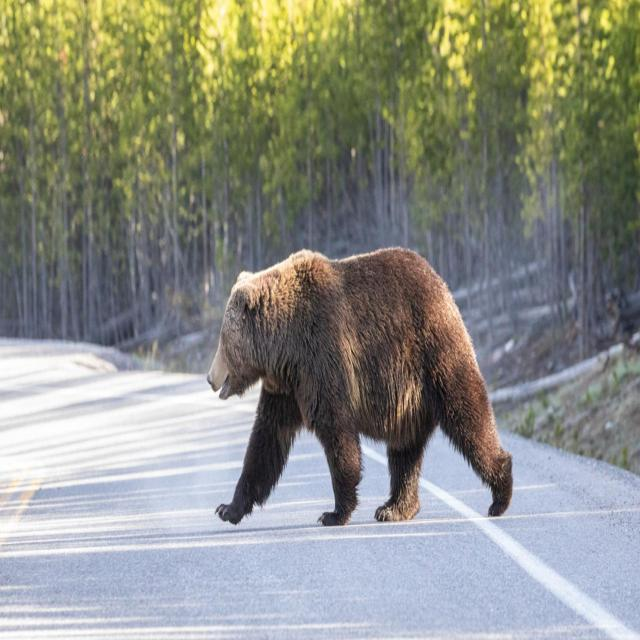Bear: (207, 247, 515, 529)
